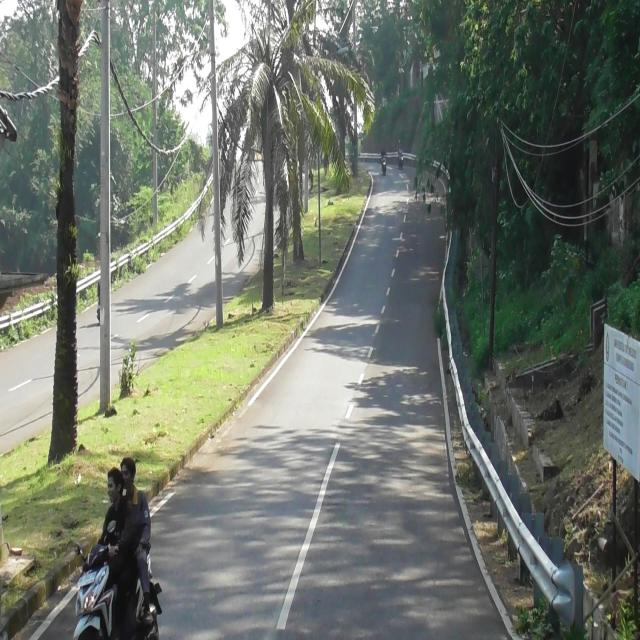motorcycle: (68, 527, 160, 640), (381, 156, 388, 174), (399, 153, 404, 170)
person: (96, 468, 138, 638), (119, 454, 151, 622), (380, 145, 388, 158), (398, 142, 403, 154)
rider_region: (71, 459, 163, 640), (380, 143, 388, 175), (398, 142, 404, 168)
